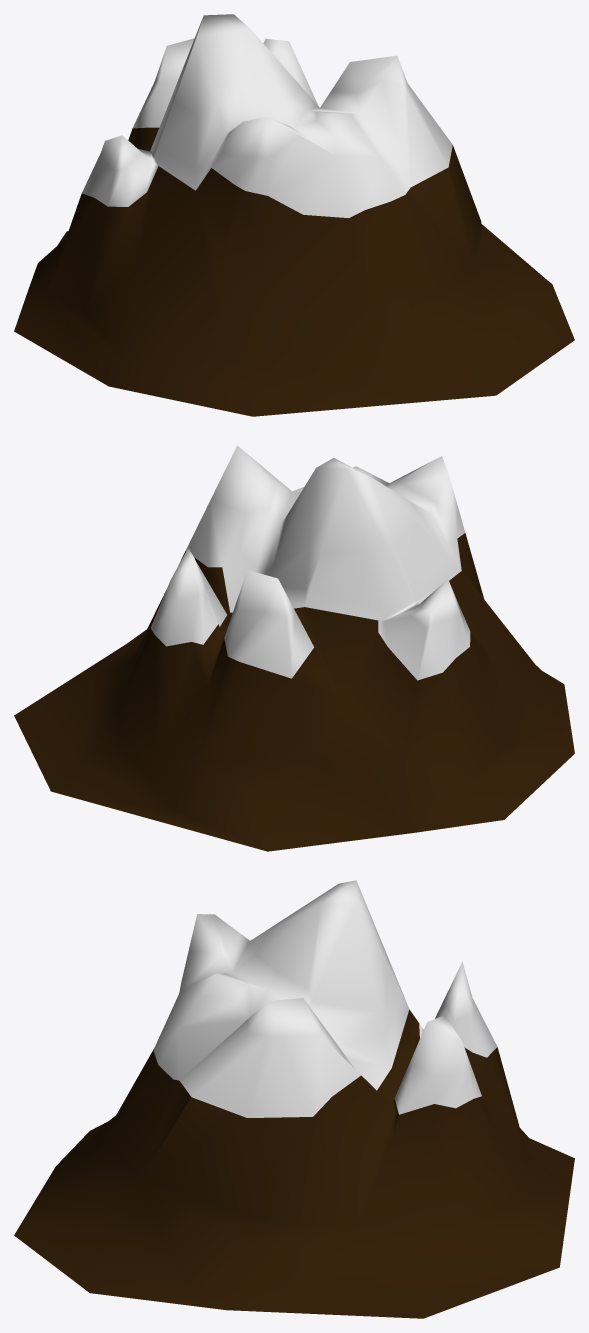
The model's file is Mountain_02.fbx.
The picture shows the model from 3 angles, top to bottom: view 1: azimuth 30°, elevation 25°; view 2: azimuth 150°, elevation 25°; view 3: azimuth 270°, elevation 25°; orthographic projection. The views are drawn at different scales.
Parts seen in each view (by area): view 1: Mountain; view 2: Mountain; view 3: Mountain.
Boxes of the visible parts, <box> form: Mountain: <box>14,14,574,416</box>; Mountain: <box>14,445,574,851</box>; Mountain: <box>14,880,574,1318</box>.
Size of the model in its own units: 3087 by 1830 by 3172.
